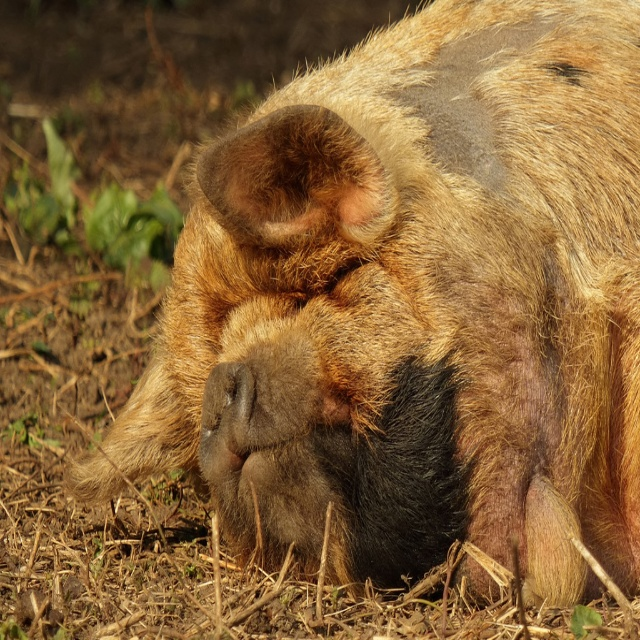Pig: (63, 0, 640, 614)
